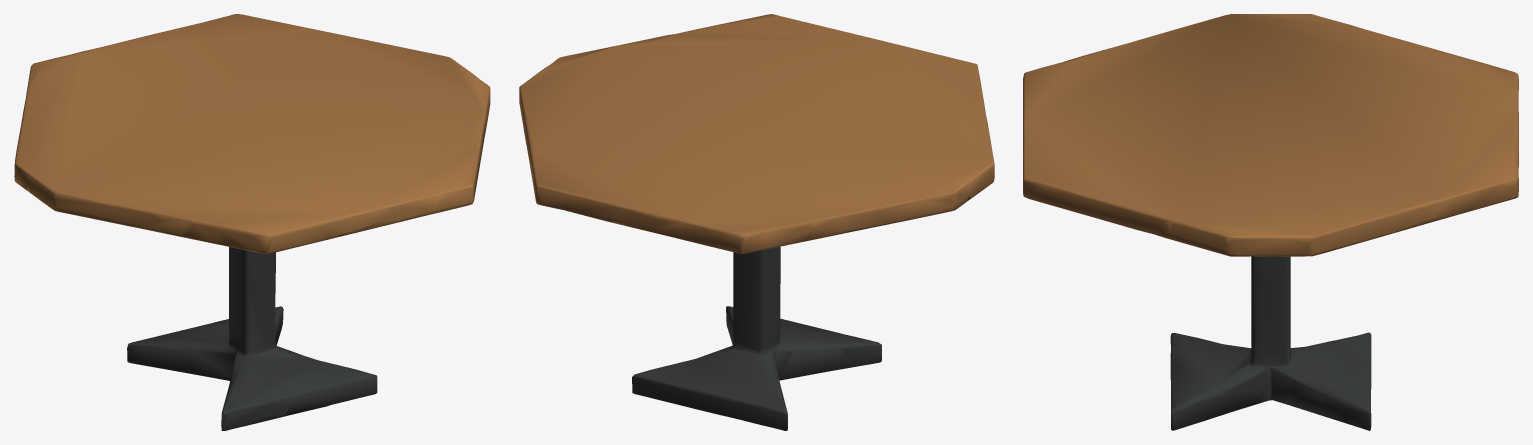
Rendered from gen3d-cafe-table-lod1.glb.
3 views of the same model, side by side, from view 1: azimuth 30°, elevation 25°; view 2: azimuth 150°, elevation 25°; view 3: azimuth 270°, elevation 25° (orthographic). The views are drawn at different scales.
Visible parts, largest first — view 1: part_0; view 2: part_0; view 3: part_0.
Boxes of the visible parts, x1,y1,x2,y2 form: part_0: [14, 14, 490, 430]; part_0: [519, 14, 994, 430]; part_0: [1023, 14, 1518, 430].
Bounding box in the file's own units: 1.8 × 1 × 1.68.
